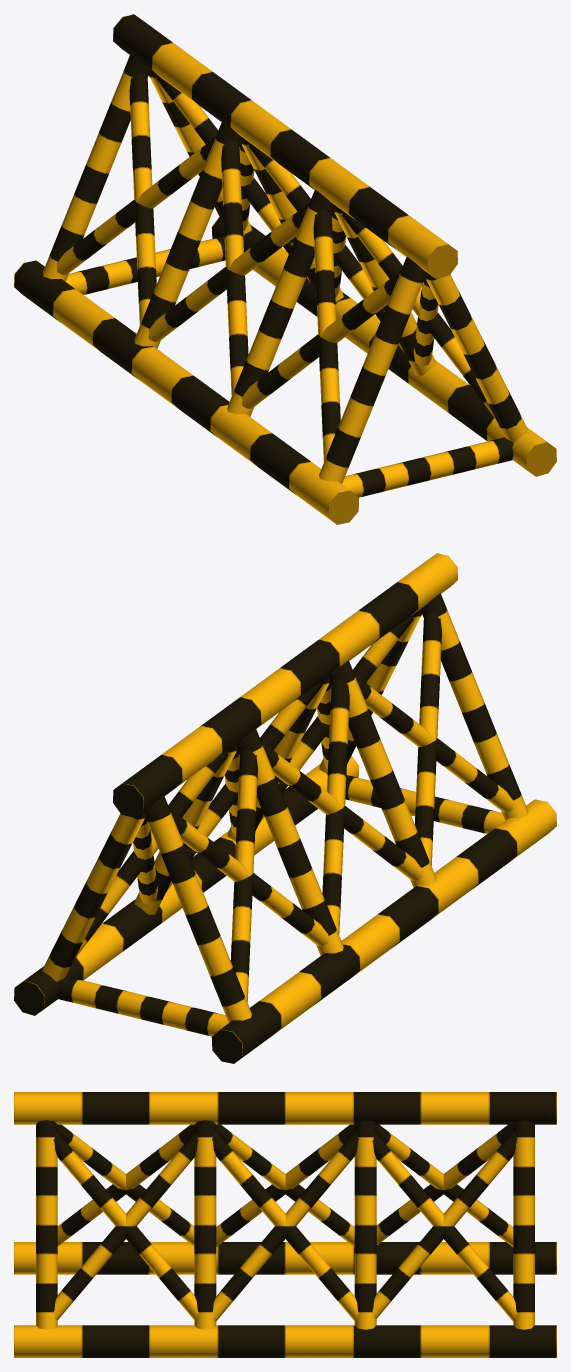
File: Bargegate_A.fbx
3 views of the same model, one above another, from view 1: azimuth 30°, elevation 25°; view 2: azimuth 150°, elevation 25°; view 3: azimuth 270°, elevation 25° (orthographic). The views are drawn at different scales.
Visible parts, largest first — view 1: Bargegate_A_001; view 2: Bargegate_A_001; view 3: Bargegate_A_001.
Part boxes in pixels (x1=…): Bargegate_A_001: x1=14, y1=14, x2=556, y2=524; Bargegate_A_001: x1=14, y1=553, x2=556, y2=1063; Bargegate_A_001: x1=14, y1=1092, x2=556, y2=1357.
Size of the model in its own units: 83.89 by 200 by 89.14.
